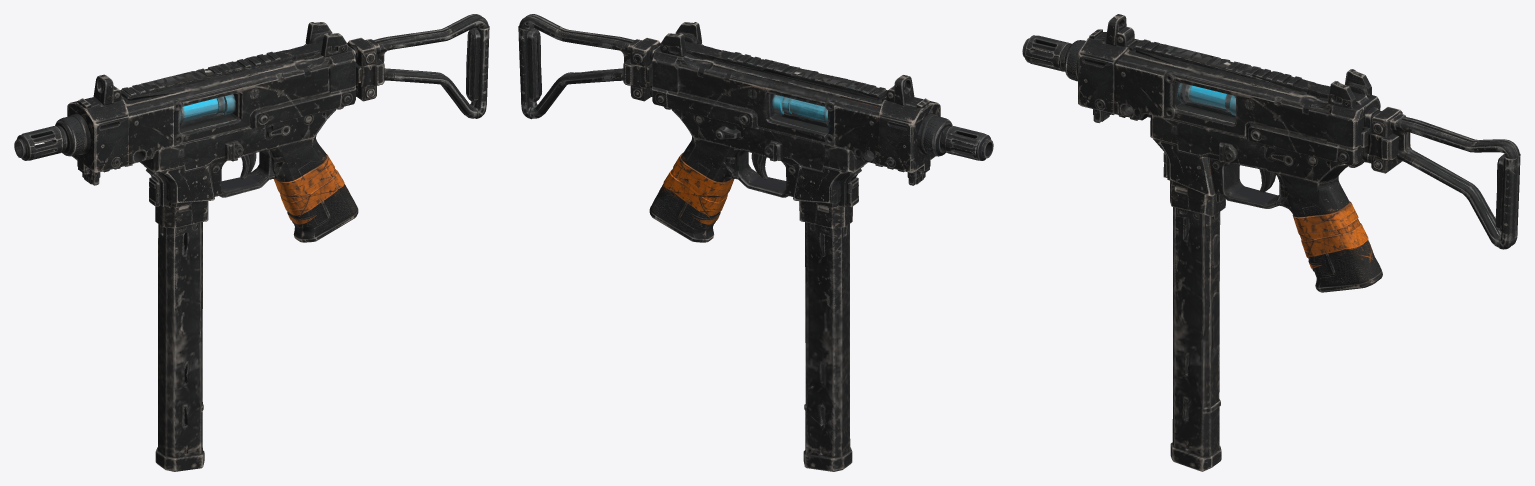
File: micro_smg.glb
3 views of the same model, side by side, from view 1: azimuth 30°, elevation 25°; view 2: azimuth 150°, elevation 25°; view 3: azimuth 330°, elevation 25° (orthographic). The views are drawn at different scales.
Visible parts, largest first — view 1: output_unwrapped; view 2: output_unwrapped; view 3: output_unwrapped.
Part boxes in pixels (x1,y1,x2,y2): output_unwrapped: (14, 14, 489, 471); output_unwrapped: (518, 14, 993, 471); output_unwrapped: (1022, 14, 1520, 471).
Size of the model in its own units: 1.91 by 1.59 by 0.2051.
Materials: 1 (1 with a texture image).
